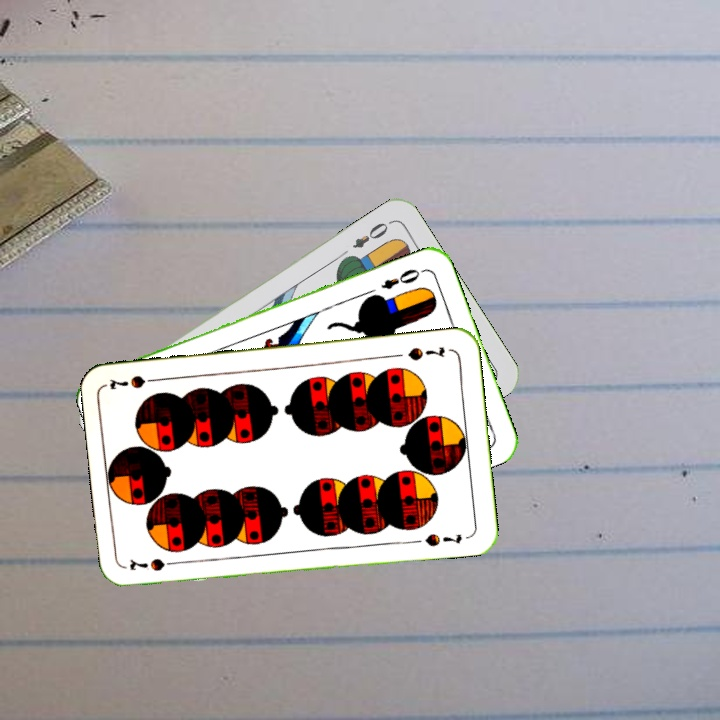EO: (377, 264, 427, 293), (348, 218, 391, 251)
S7: (126, 554, 183, 574), (404, 342, 447, 363)
